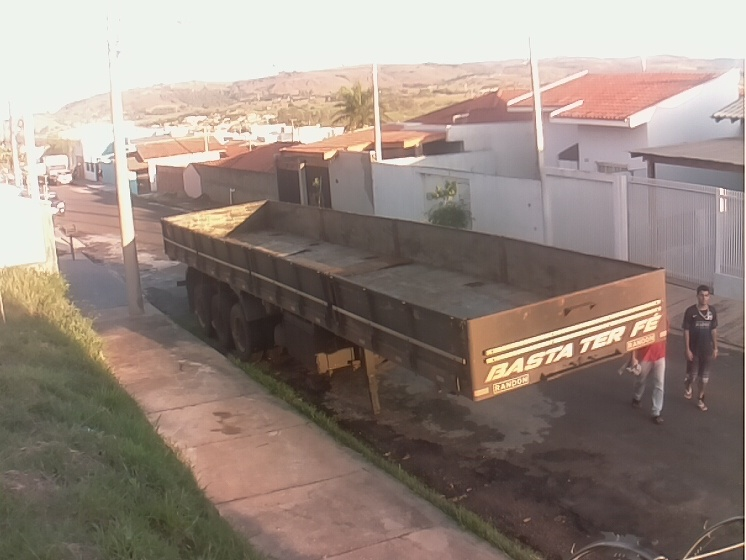person: (683, 286, 719, 415), (628, 336, 668, 427)
